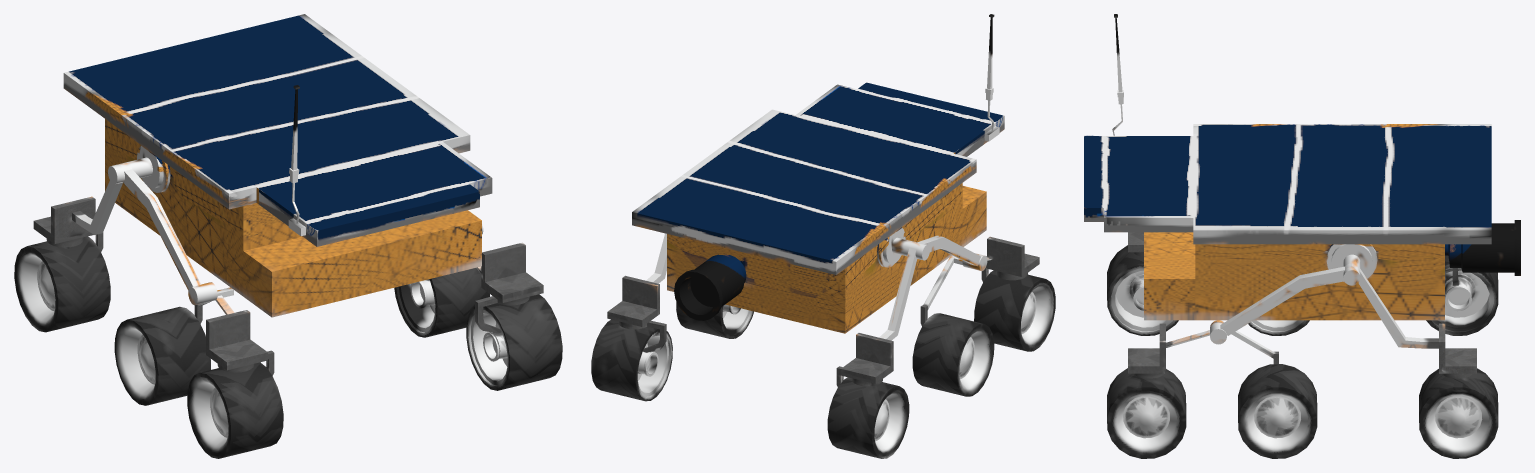
The model's file is mars-sojourner-rover-model.glb.
3 views of the same model, side by side, from view 1: azimuth 30°, elevation 25°; view 2: azimuth 150°, elevation 25°; view 3: azimuth 270°, elevation 25° (orthographic). The views are drawn at different scales.
Parts seen in each view (by area): view 1: Mars_Sojourner_Rover_Model_Part06, Mars_Sojourner_Rover_Model_Part01, Mars_Sojourner_Rover_Model_Part03, Mars_Sojourner_Rover_Model_Part02, Mars_Sojourner_Rover_Model_Part04; view 2: Mars_Sojourner_Rover_Model_Part06, Mars_Sojourner_Rover_Model_Part01, Mars_Sojourner_Rover_Model_Part03, Mars_Sojourner_Rover_Model_Part02, Mars_Sojourner_Rover_Model_Part05, Mars_Sojourner_Rover_Model_Part04; view 3: Mars_Sojourner_Rover_Model_Part06, Mars_Sojourner_Rover_Model_Part03, Mars_Sojourner_Rover_Model_Part01, Mars_Sojourner_Rover_Model_Part05, Mars_Sojourner_Rover_Model_Part04, Mars_Sojourner_Rover_Model_Part02.
Boxes of the visible parts, <box> form: Mars_Sojourner_Rover_Model_Part06: <box>63,14,492,317</box>; Mars_Sojourner_Rover_Model_Part01: <box>14,86,299,458</box>; Mars_Sojourner_Rover_Model_Part03: <box>394,209,562,390</box>; Mars_Sojourner_Rover_Model_Part02: <box>33,85,299,375</box>; Mars_Sojourner_Rover_Model_Part04: <box>475,242,543,333</box>; Mars_Sojourner_Rover_Model_Part06: <box>632,17,1004,333</box>; Mars_Sojourner_Rover_Model_Part01: <box>827,15,1055,458</box>; Mars_Sojourner_Rover_Model_Part03: <box>591,233,753,401</box>; Mars_Sojourner_Rover_Model_Part02: <box>836,14,1039,386</box>; Mars_Sojourner_Rover_Model_Part05: <box>674,254,746,320</box>; Mars_Sojourner_Rover_Model_Part04: <box>607,275,666,352</box>; Mars_Sojourner_Rover_Model_Part06: <box>1084,17,1491,320</box>; Mars_Sojourner_Rover_Model_Part03: <box>1107,244,1498,458</box>; Mars_Sojourner_Rover_Model_Part01: <box>1107,15,1498,335</box>; Mars_Sojourner_Rover_Model_Part05: <box>1445,220,1520,275</box>; Mars_Sojourner_Rover_Model_Part04: <box>1128,323,1476,378</box>; Mars_Sojourner_Rover_Model_Part02: <box>1114,14,1459,285</box>.
Size of the model in its own units: 0.5143 by 0.5406 by 0.65.
Materials: 6 (6 with a texture image).
